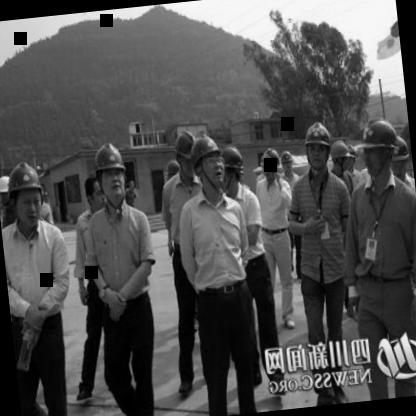head: (75, 172, 107, 218)
helmet: (0, 156, 48, 232), (356, 117, 402, 183), (89, 138, 131, 210), (188, 131, 228, 194), (171, 128, 207, 184), (298, 118, 332, 173), (386, 132, 414, 188), (216, 144, 246, 192), (327, 136, 356, 180), (257, 143, 282, 186), (278, 148, 297, 181)
